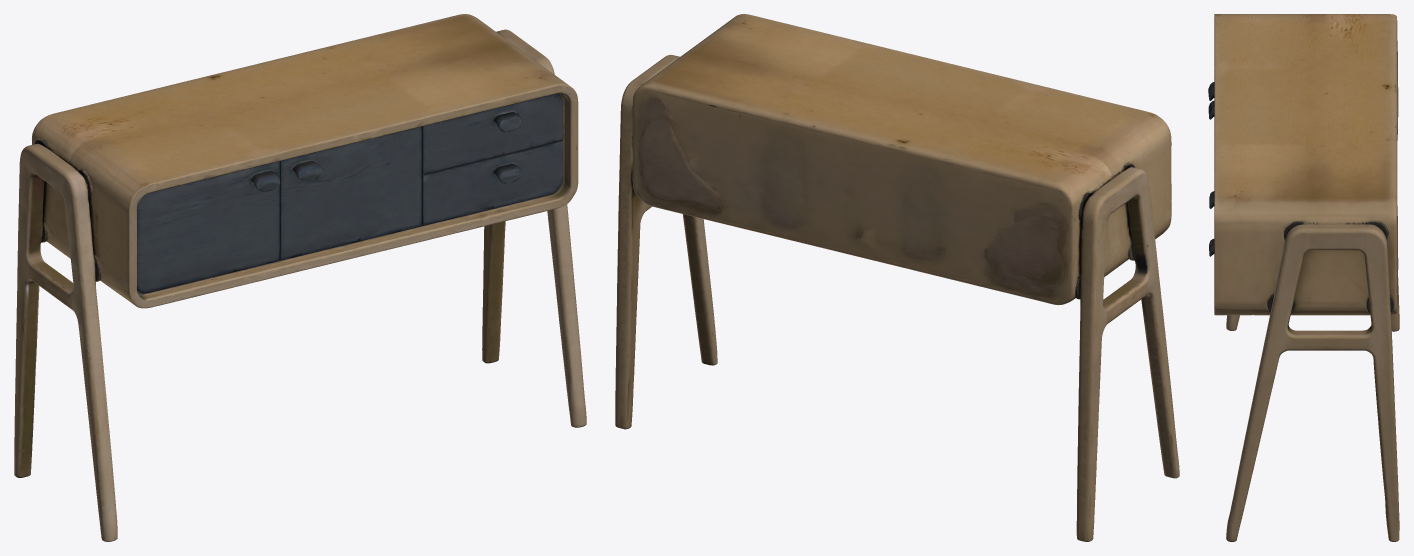
The model's file is skjenk.glb.
3 views of the same model, side by side, from view 1: azimuth 30°, elevation 25°; view 2: azimuth 150°, elevation 25°; view 3: azimuth 270°, elevation 25° (orthographic). The views are drawn at different scales.
Parts seen in each view (by area): view 1: tmp9ipnmojeobj; view 2: tmp9ipnmojeobj; view 3: tmp9ipnmojeobj.
Boxes of the visible parts, box(x1,y1,x2,y2) form: tmp9ipnmojeobj: box(14, 14, 586, 541); tmp9ipnmojeobj: box(615, 14, 1179, 541); tmp9ipnmojeobj: box(1208, 14, 1399, 541).
Size of the model in its own units: 1 by 0.7012 by 0.3716.
1 material, 1 textured.
